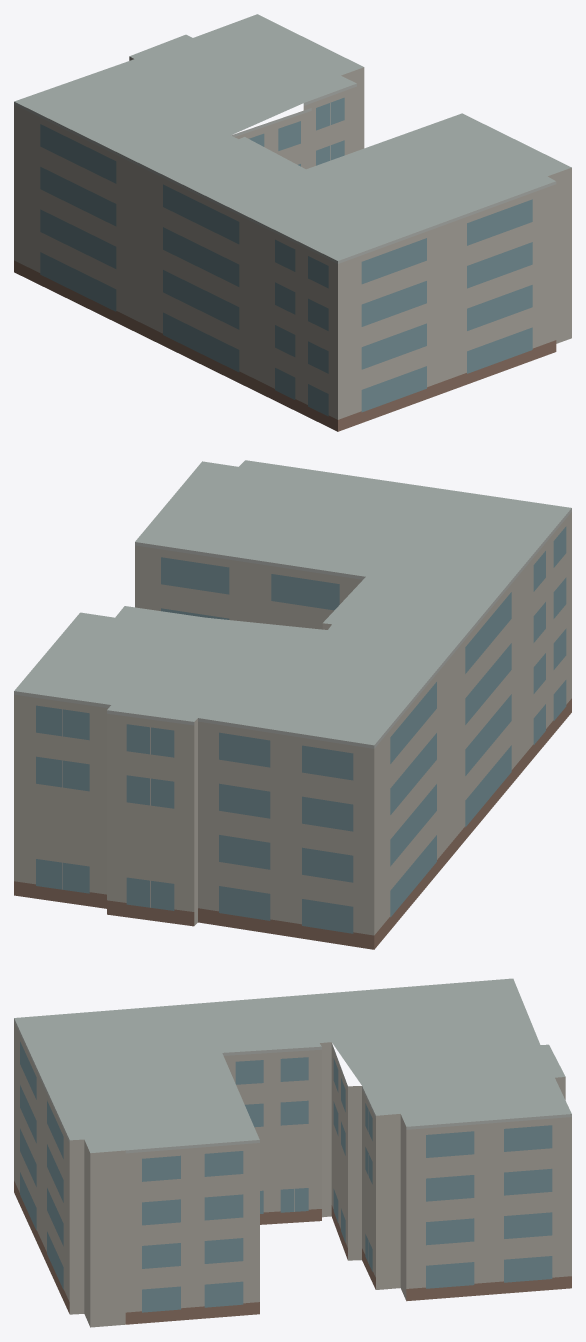
The model's file is survey-upis-32980648.glb.
The picture shows the model from 3 angles, top to bottom: view 1: azimuth 30°, elevation 25°; view 2: azimuth 150°, elevation 25°; view 3: azimuth 270°, elevation 25°; orthographic projection. The views are drawn at different scales.
Parts seen in each view (by area): view 1: survey-upis-32980648.tmp; view 2: survey-upis-32980648.tmp; view 3: survey-upis-32980648.tmp.
Part boxes in pixels (x1,y1,x2,y2): survey-upis-32980648.tmp: (14, 14, 571, 431); survey-upis-32980648.tmp: (14, 460, 571, 949); survey-upis-32980648.tmp: (14, 978, 571, 1327).
Bounding box in the file's own units: 30.15 × 14.02 × 40.67.
